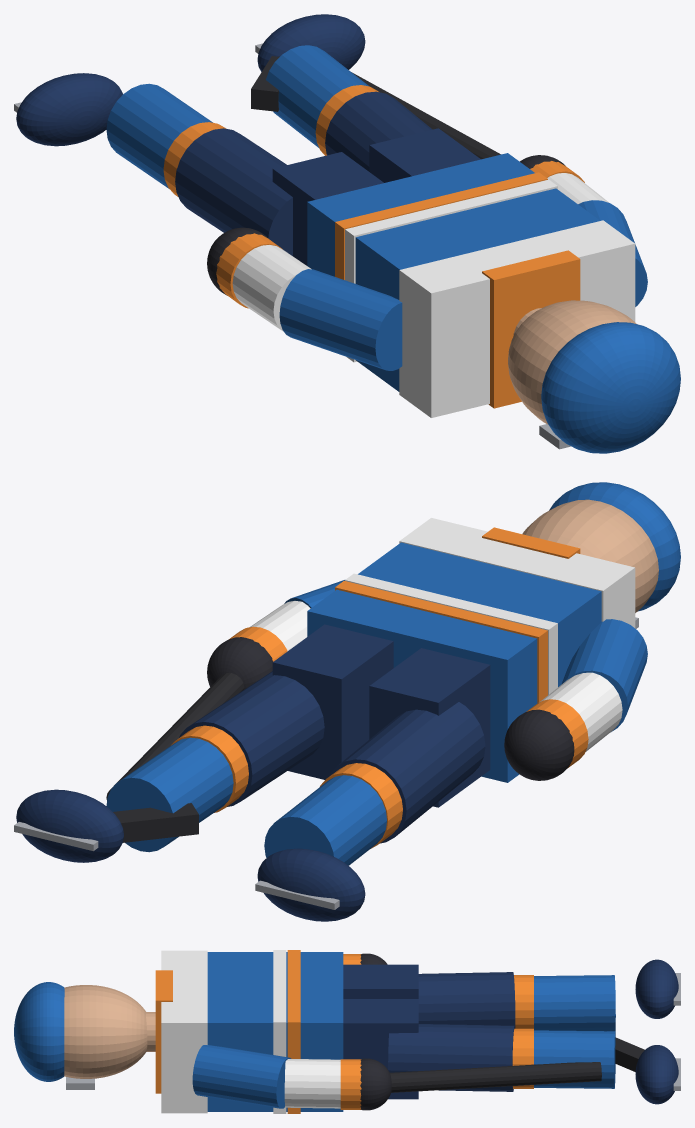
Rendered from hockey_skater_3d.glb.
3 renders of one model, top to bottom at view 1: azimuth 30°, elevation 25°; view 2: azimuth 150°, elevation 25°; view 3: azimuth 270°, elevation 25°, orthographic. The views are drawn at different scales.
Parts seen in each view (by area): view 1: world; view 2: world; view 3: world.
Boxes of the visible parts, x1,y1,x2,y2 form: world: (14,14,680,453); world: (14,482,680,921); world: (14,950,680,1113).
Size of the model in its own units: 1.04 by 0.355 by 2.31.
